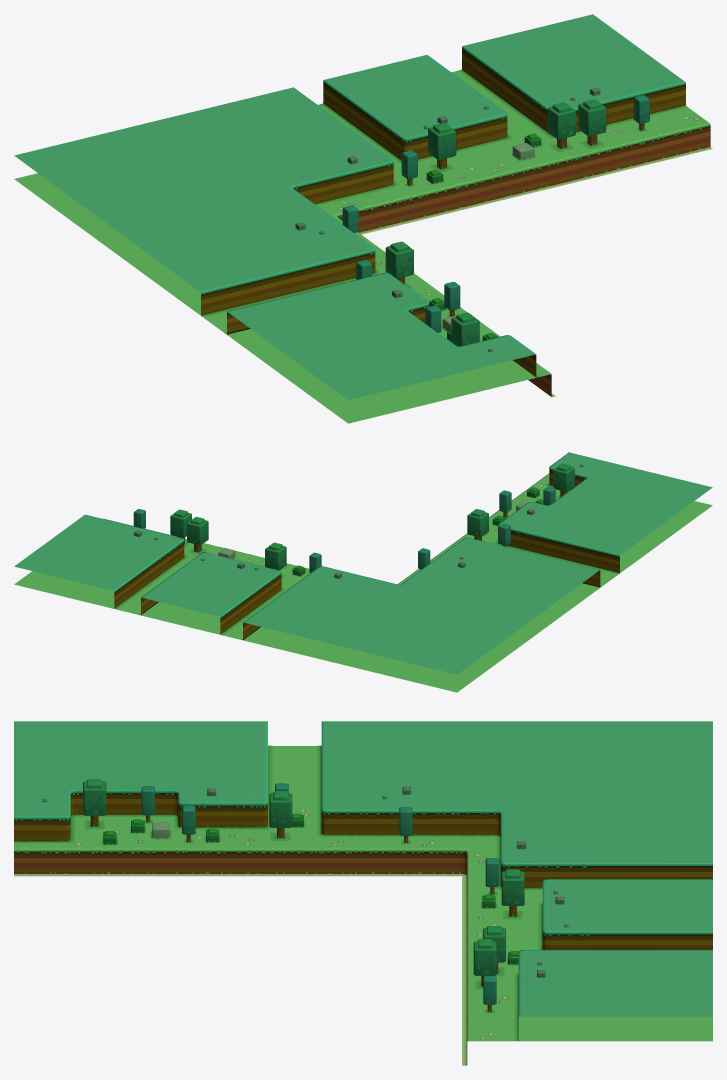
The model's file is C_grass1_out_RD.fbx.
3 views of the same model, one above another, from view 1: azimuth 30°, elevation 25°; view 2: azimuth 150°, elevation 25°; view 3: azimuth 270°, elevation 25° (orthographic). The views are drawn at different scales.
Parts seen in each view (by area): view 1: C_grass1_out_RD; view 2: C_grass1_out_RD; view 3: C_grass1_out_RD.
Boxes of the visible parts, bbox=[...] form: C_grass1_out_RD: bbox=[14, 14, 712, 423]; C_grass1_out_RD: bbox=[14, 452, 712, 692]; C_grass1_out_RD: bbox=[14, 721, 712, 1065].
Bounding box in the file's own units: 117 × 12.59 × 117.
1 material, 1 textured.
